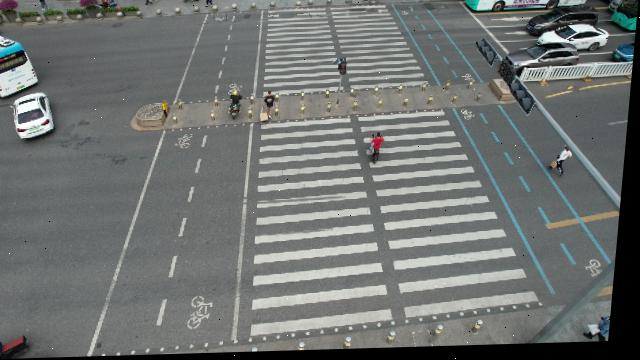non-motor-vehicle: (0, 335, 38, 360), (260, 89, 278, 126), (371, 135, 389, 167), (230, 91, 247, 121)
person: (557, 152, 574, 171)
